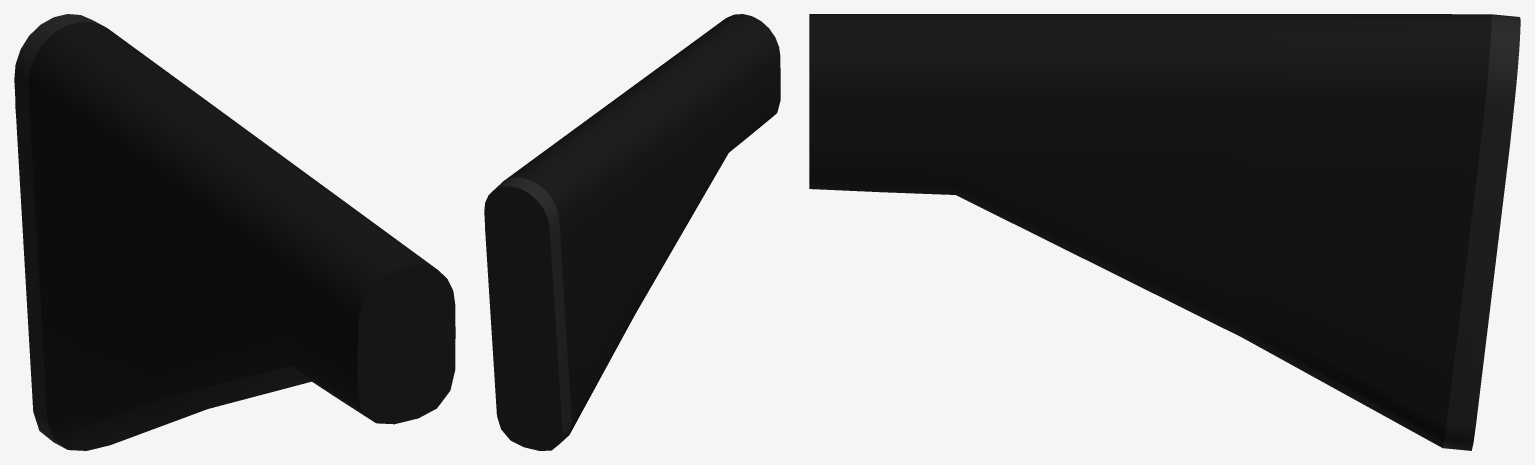
Rendered from stock_0.fbx.
3 views of the same model, side by side, from view 1: azimuth 30°, elevation 25°; view 2: azimuth 150°, elevation 25°; view 3: azimuth 270°, elevation 25° (orthographic). The views are drawn at different scales.
Parts seen in each view (by area): view 1: stock_0; view 2: stock_0; view 3: stock_0.
Part boxes in pixels (x1=…): stock_0: x1=14, y1=14, x2=455, y2=450; stock_0: x1=484, y1=14, x2=780, y2=450; stock_0: x1=809, y1=14, x2=1520, y2=450.
Bounding box in the file's own units: 152 × 608 × 930.
